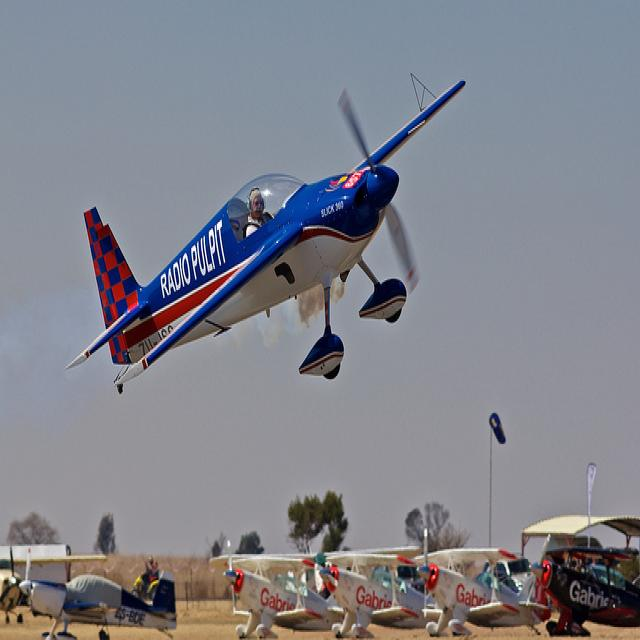motor: (131, 574, 160, 601)
